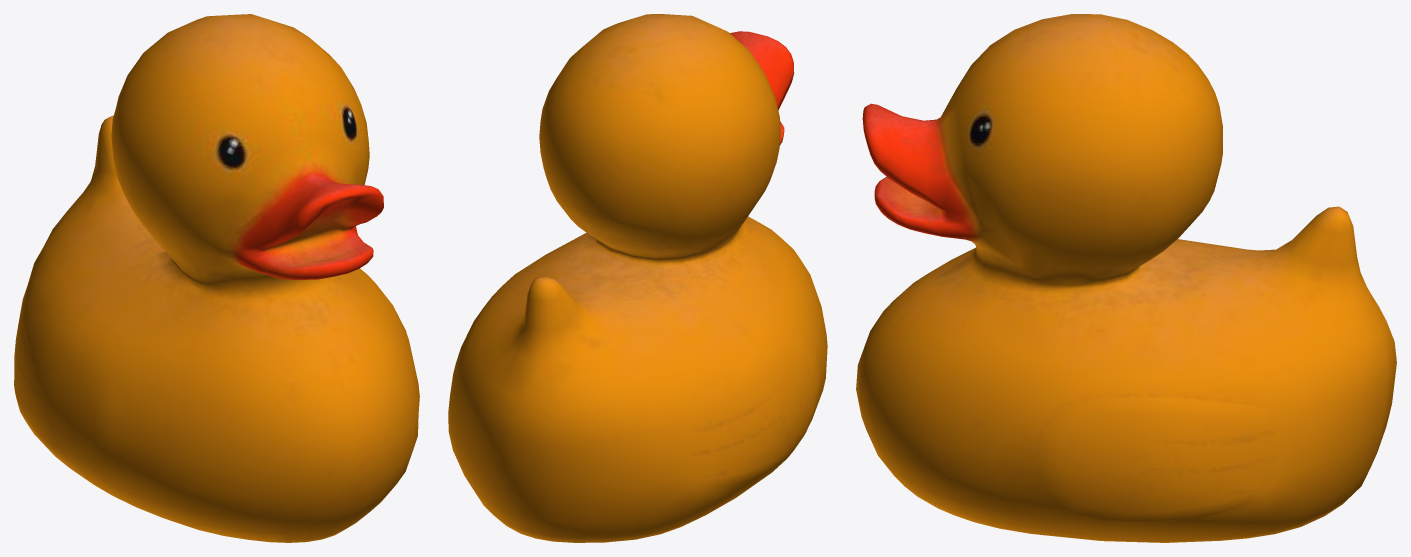
The model's file is rubber_duck_toy.glb.
3 renders of one model, left to right at view 1: azimuth 30°, elevation 25°; view 2: azimuth 150°, elevation 25°; view 3: azimuth 270°, elevation 25°, orthographic. The views are drawn at different scales.
Visible parts, largest first — view 1: rubber_duck_toy; view 2: rubber_duck_toy; view 3: rubber_duck_toy.
Part boxes in pixels (left/top/right/bottom): rubber_duck_toy: left=14, top=14, right=419, bottom=542; rubber_duck_toy: left=448, top=14, right=827, bottom=542; rubber_duck_toy: left=856, top=14, right=1396, bottom=542.
Bounding box in the file's own units: 0.2135 × 0.2853 × 0.3.
Materials: 1 (1 with a texture image).
